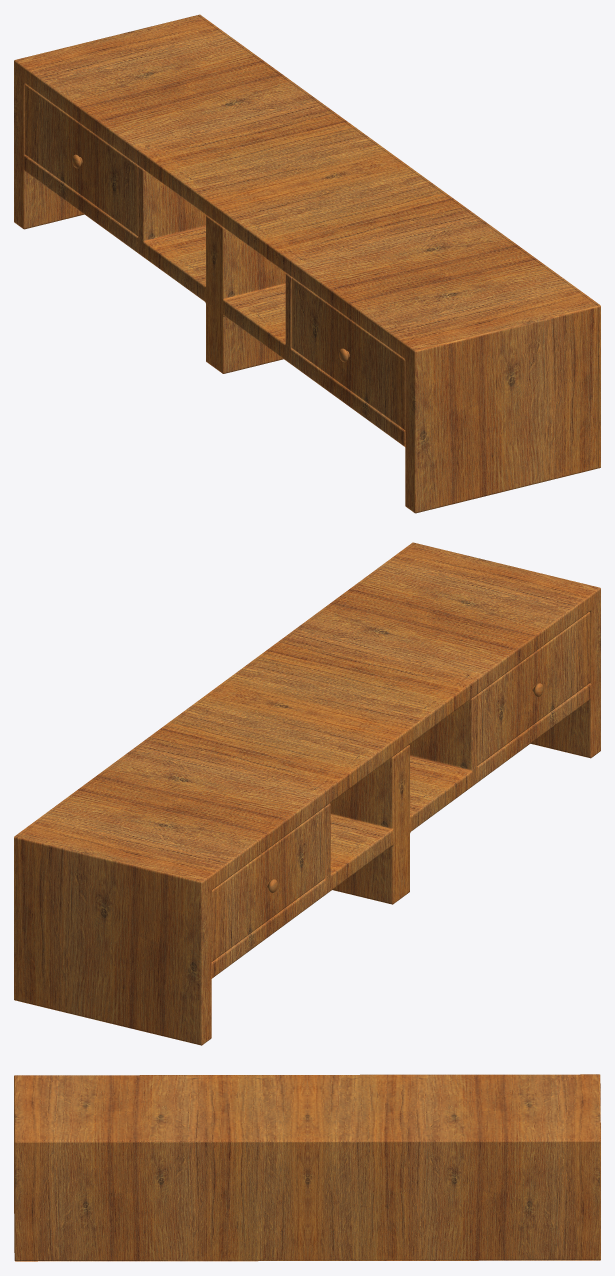
Rendered from SofaTable.fbx.
3 renders of one model, top to bottom at view 1: azimuth 30°, elevation 25°; view 2: azimuth 150°, elevation 25°; view 3: azimuth 270°, elevation 25°, orthographic. The views are drawn at different scales.
Visible parts, largest first — view 1: Table; view 2: Table; view 3: Table.
Part boxes in pixels (x1,y1,x2,y2): Table: [14, 14, 600, 513]; Table: [14, 542, 600, 1045]; Table: [14, 1074, 600, 1261].
Bounding box in the file's own units: 66.22 × 52.71 × 234.
